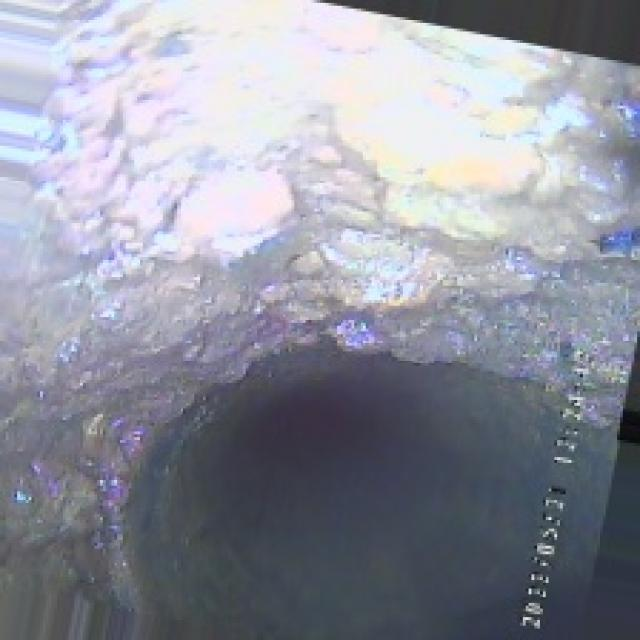encrustation: (43, 31, 574, 360)
